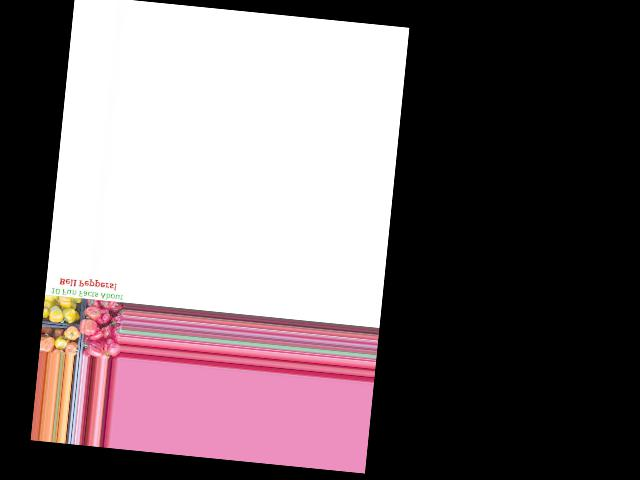bell_pepper: (94, 297, 117, 313)
